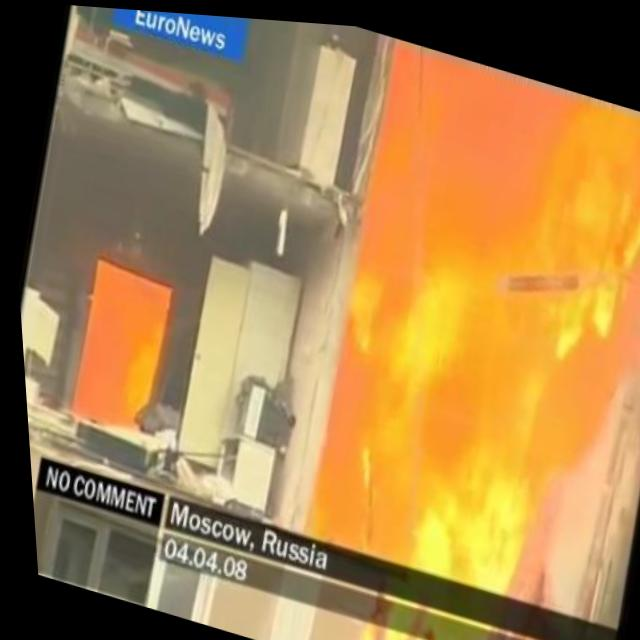fire: (276, 25, 640, 625), (54, 250, 174, 440)
